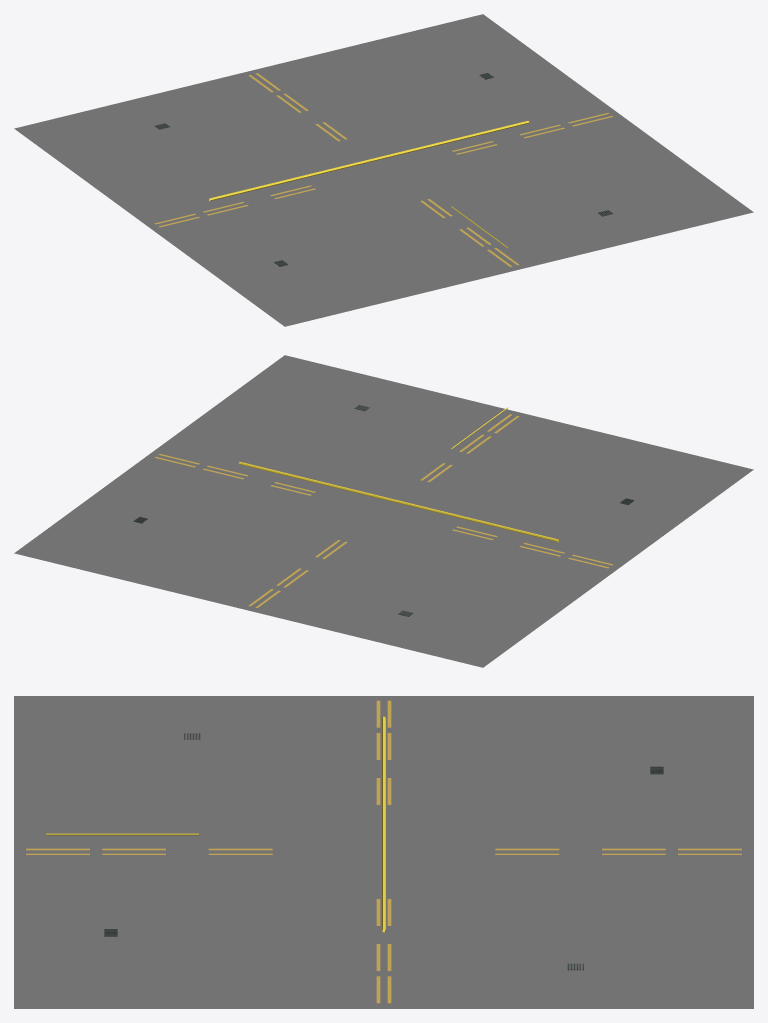
3 views of the same model, one above another, from view 1: azimuth 30°, elevation 25°; view 2: azimuth 150°, elevation 25°; view 3: azimuth 270°, elevation 25° (orthographic). The views are drawn at different scales.
Parts seen in each view (by area): view 1: RD39L | archived geometry, Fitted street and landscape details, RD39L | line, light and sprite surfaces; view 2: RD39L | archived geometry, Fitted street and landscape details, RD39L | line, light and sprite surfaces; view 3: RD39L | archived geometry, Fitted street and landscape details, RD39L | line, light and sprite surfaces.
Boxes of the visible parts, x1=… form: RD39L | archived geometry: x1=14, y1=14, x2=753, y2=326; Fitted street and landscape details: x1=154, y1=73, x2=613, y2=266; RD39L | line, light and sprite surfaces: x1=209, y1=121, x2=529, y2=248; RD39L | archived geometry: x1=14, y1=355, x2=753, y2=667; Fitted street and landscape details: x1=133, y1=405, x2=634, y2=616; RD39L | line, light and sprite surfaces: x1=238, y1=407, x2=558, y2=541; RD39L | archived geometry: x1=14, y1=696, x2=753, y2=1008; Fitted street and landscape details: x1=26, y1=700, x2=741, y2=1003; RD39L | line, light and sprite surfaces: x1=46, y1=716, x2=385, y2=932.
Bounding box in the file's own units: 16 × 0.4656 × 16.
